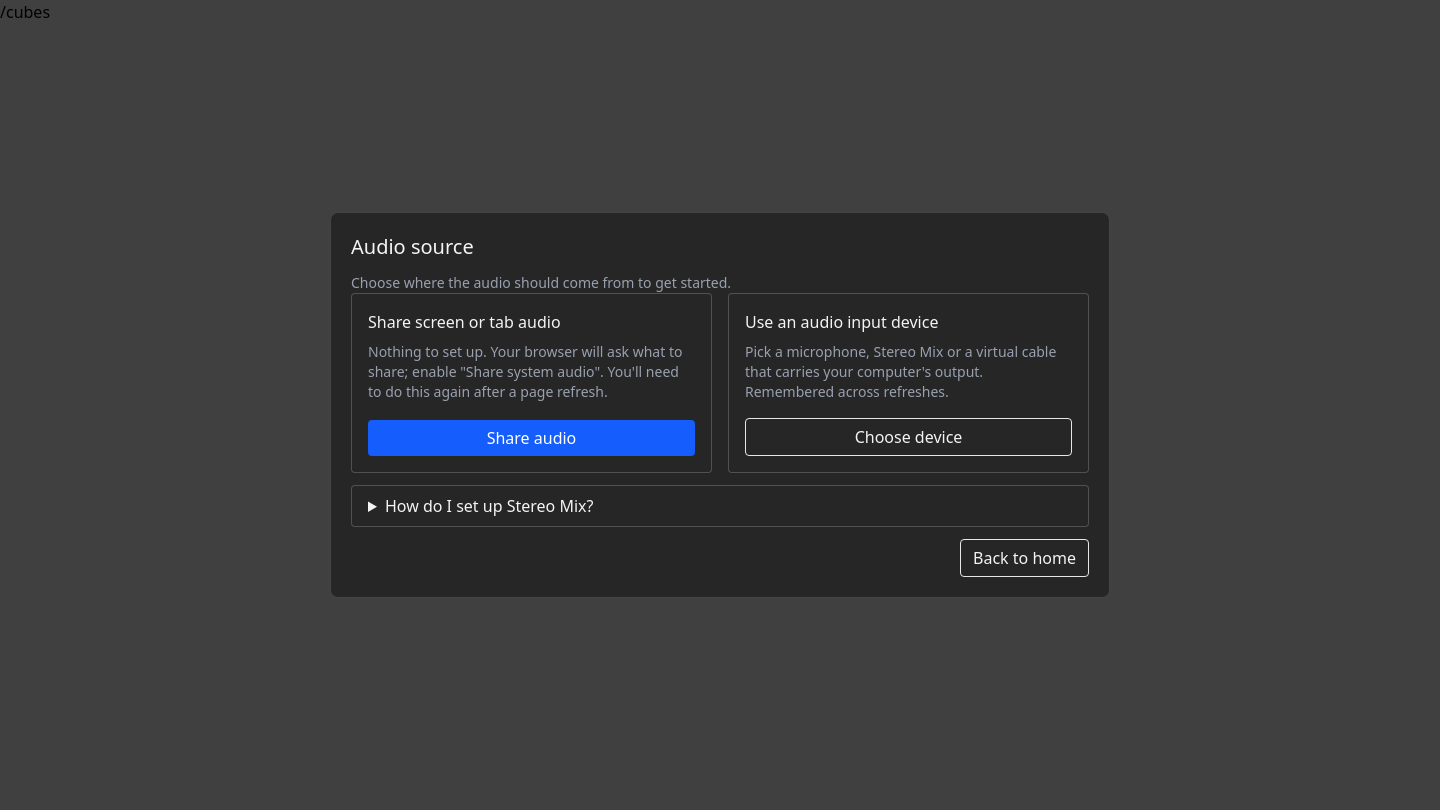
Test: RequireAudio › does not offer "Back to home" when the source drops while the prompt is still open over the page
Click the button "Share audio".
click(532, 438)  # box [368,420,695,456]
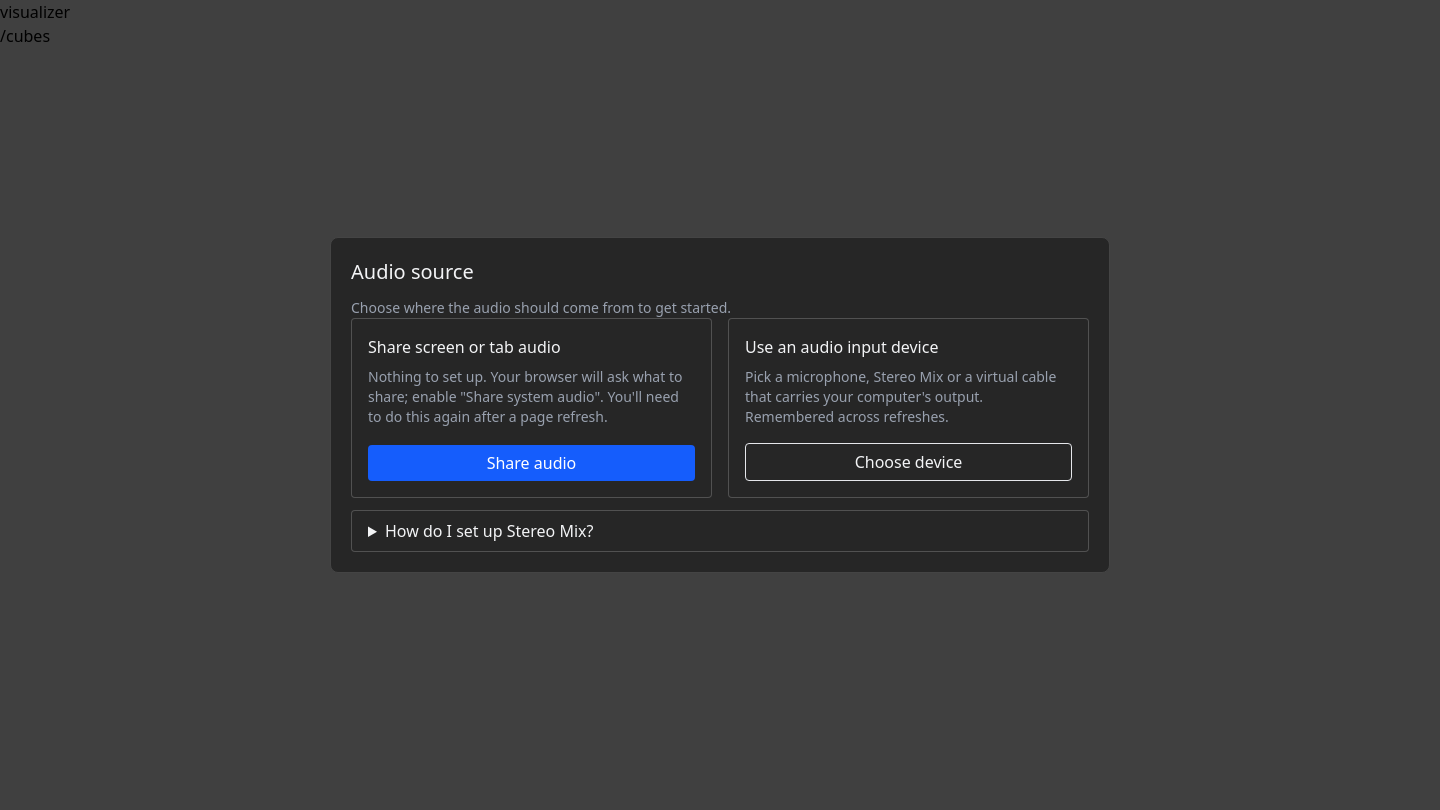
Expected: the dialog "Audio source" is shown, [330,237,1110,573]
Result: the text "visualizer" is shown at [0,1,70,23]
Result: the button "Back to home" is gone
